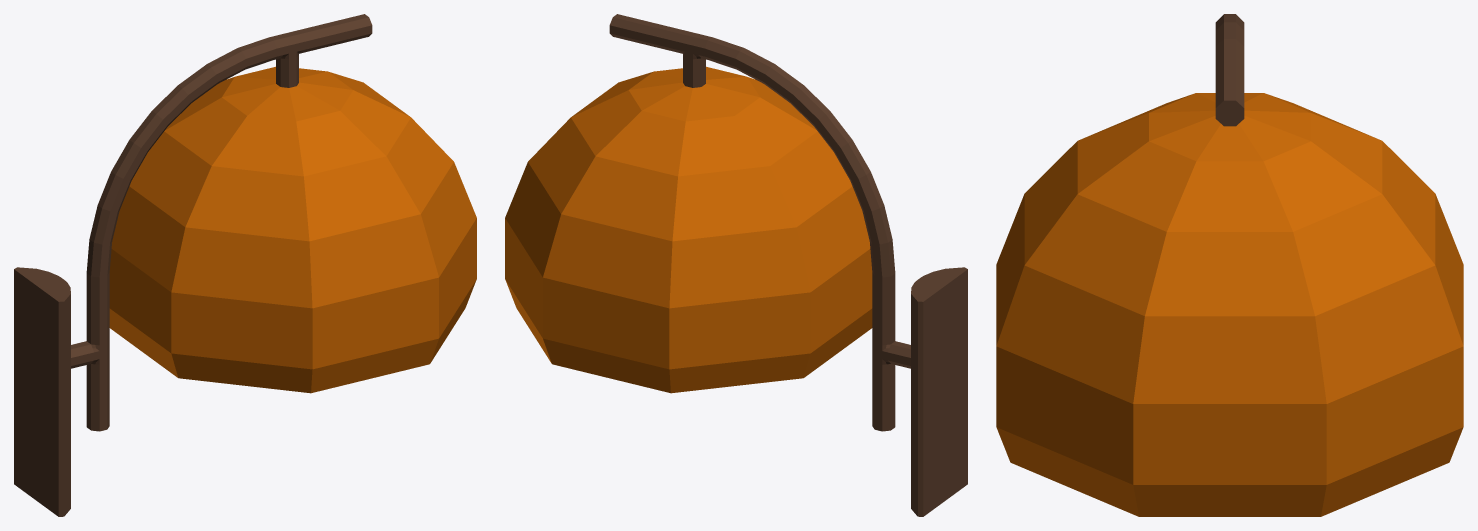
The model's file is 70s.Lamp.Wall.fbx.
3 renders of one model, left to right at view 1: azimuth 30°, elevation 25°; view 2: azimuth 150°, elevation 25°; view 3: azimuth 270°, elevation 25°, orthographic. The views are drawn at different scales.
Visible parts, largest first — view 1: 70s.Lamp.Wall; view 2: 70s.Lamp.Wall; view 3: 70s.Lamp.Wall.
Boxes of the visible parts, x1=… form: 70s.Lamp.Wall: x1=14, y1=14, x2=476, y2=516; 70s.Lamp.Wall: x1=505, y1=14, x2=967, y2=516; 70s.Lamp.Wall: x1=996, y1=14, x2=1463, y2=516.
Bounding box in the file's own units: 30.06 × 28.75 × 22.74.
